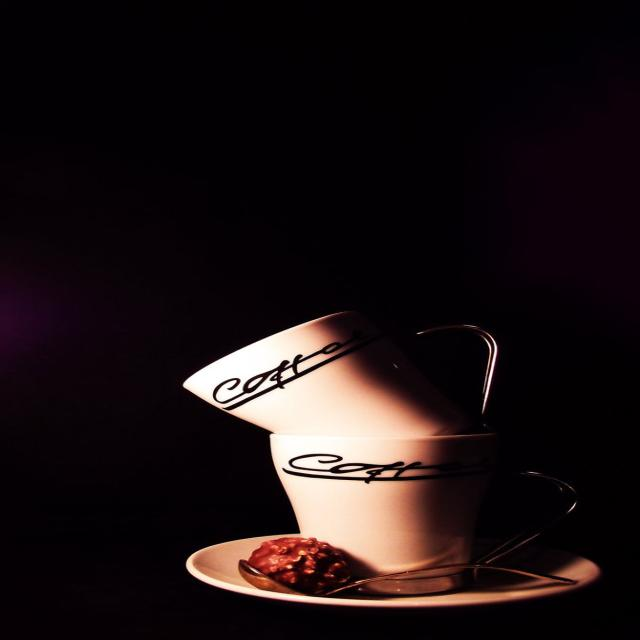Cup: (146, 434, 634, 618), (201, 300, 640, 441)
